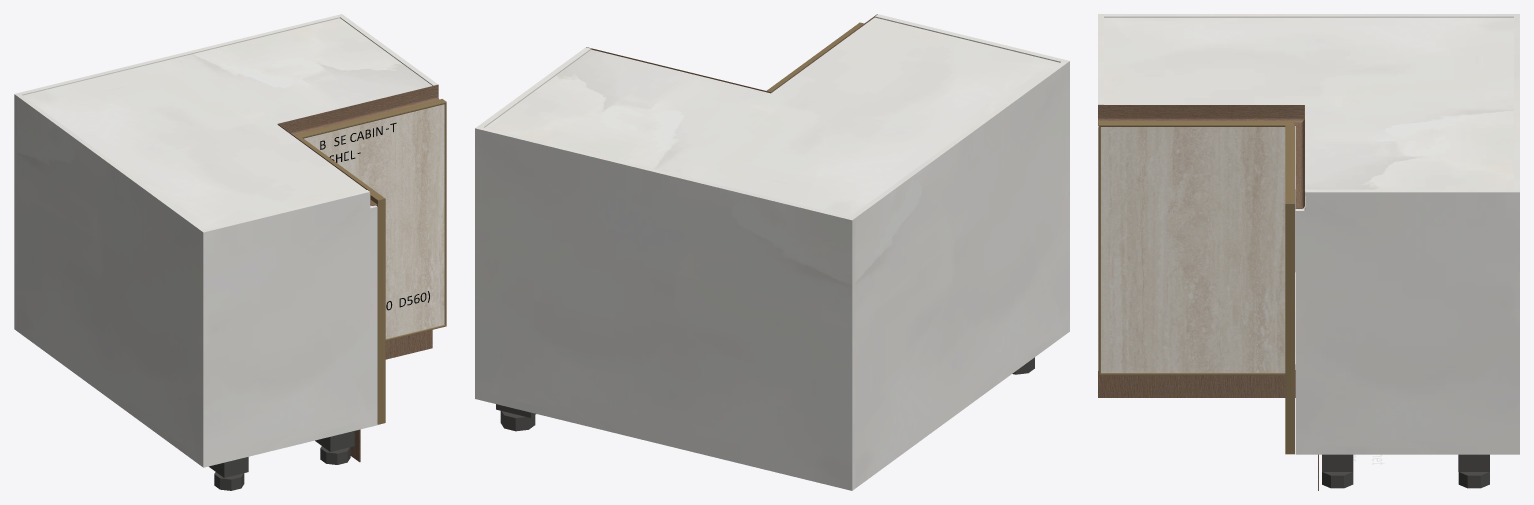
The model's file is BLC-SH-CJ-ST-1SX-XXX-1050-720-560-15.glb.
3 views of the same model, side by side, from view 1: azimuth 30°, elevation 25°; view 2: azimuth 150°, elevation 25°; view 3: azimuth 270°, elevation 25° (orthographic). The views are drawn at different scales.
Parts seen in each view (by area): view 1: TP_node_0, TP, TP_node_2, Object_node_11, ExtrSplGeo_node, TP_node_1, Extrusion_node_5, Extrusion, Object_node_15, Extrusion_node, TP_node, Plate_node (+1 smaller); view 2: TP_node_1, TP_node_0, TP, TP_node, TP_node_2; view 3: TP_node, TP, Object_node_13, Object_node_17, ExtrSplGeo, Extrusion_node, TP_node_0, Extrusion_node_2, TP_node_1, ExtrSplGeo_node, TP_node_2, Extrusion (+6 smaller).
Part boxes in pixels (x1,y1,x2,y2): TP_node_0: (17, 95, 204, 465); TP: (23, 18, 432, 229); TP_node_2: (200, 190, 377, 467); Object_node_11: (304, 104, 444, 338); ExtrSplGeo_node: (278, 84, 439, 135); TP_node_1: (14, 15, 339, 330); Extrusion_node_5: (376, 198, 385, 424); Extrusion: (297, 99, 446, 138); Object_node_15: (385, 330, 432, 359); Extrusion_node: (444, 102, 446, 325); TP_node: (337, 14, 437, 85); Plate_node: (209, 457, 248, 477); TP_node_1: (480, 127, 855, 490); TP_node_0: (850, 62, 1066, 488); TP: (485, 17, 1059, 216); TP_node: (475, 47, 591, 399); TP_node_2: (875, 14, 1069, 333); TP_node: (1295, 189, 1519, 454); TP: (1104, 17, 1513, 195); Object_node_13: (1101, 127, 1285, 372); Object_node_17: (1098, 370, 1295, 397); ExtrSplGeo: (1098, 105, 1304, 125); Extrusion_node: (1285, 204, 1294, 454); TP_node_0: (1104, 14, 1513, 272); Extrusion_node_2: (1098, 121, 1293, 126); TP_node_1: (1514, 14, 1519, 189); ExtrSplGeo_node: (1295, 105, 1304, 208); TP_node_2: (1098, 14, 1103, 370); Extrusion: (1285, 125, 1294, 203).
Size of what is drawn, in the model's own units: 1.05 by 0.82 by 1.05.
Materials: 7 (3 with a texture image).
